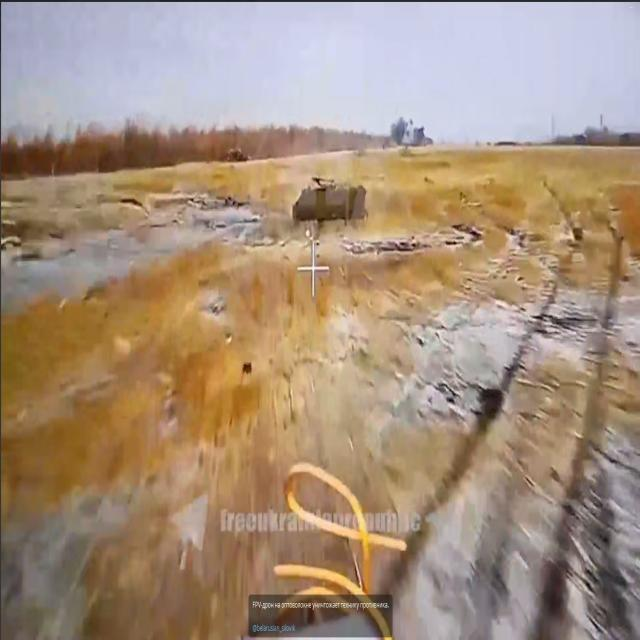vehicle: (290, 168, 374, 235), (217, 137, 256, 174)
